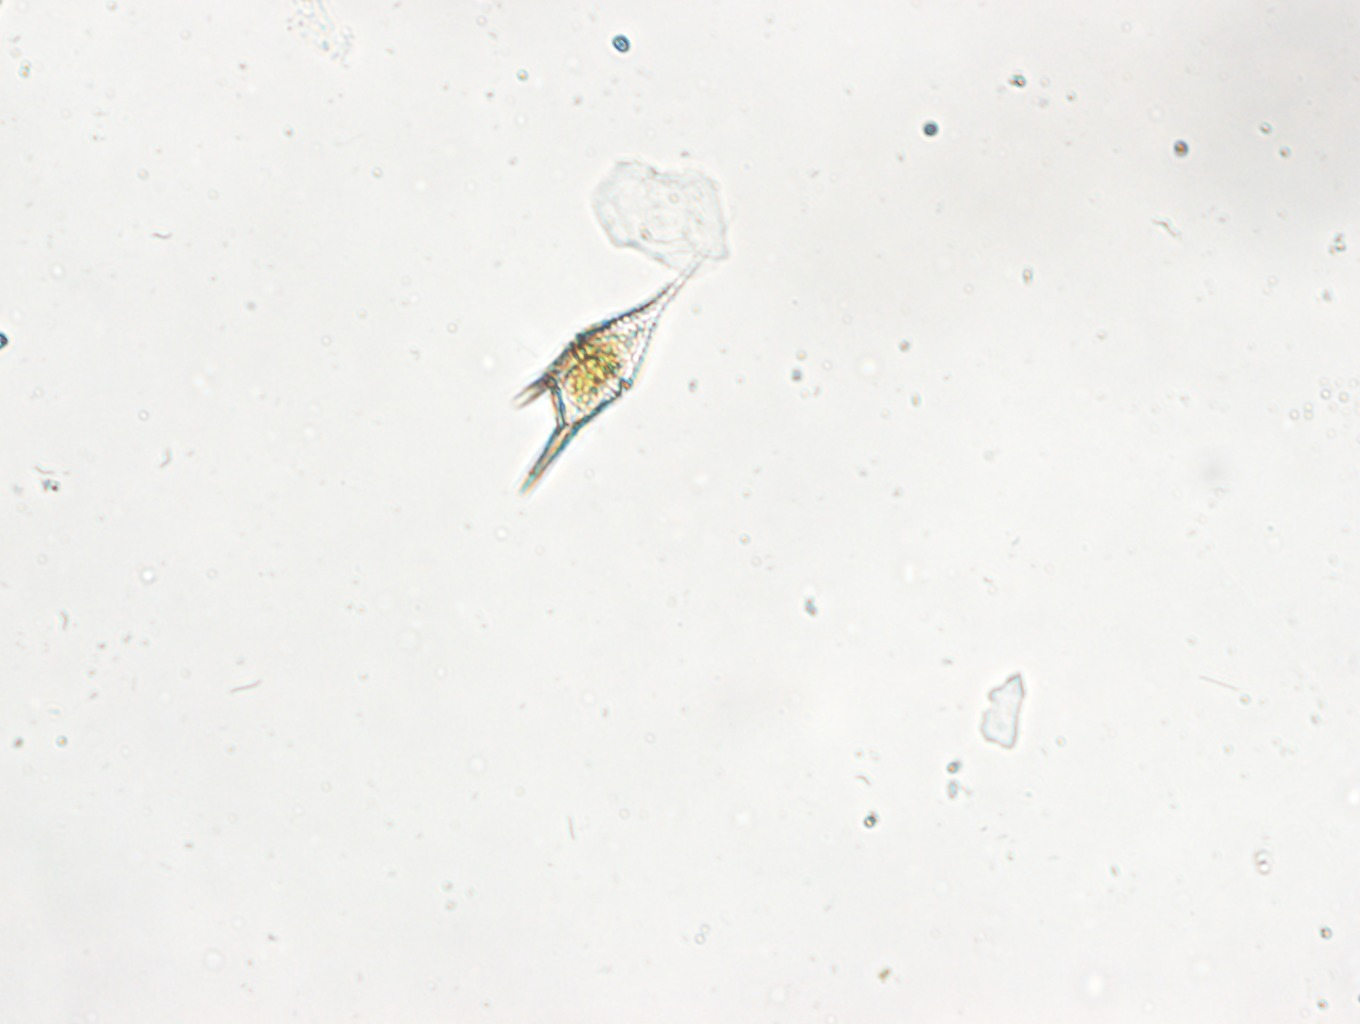ceratium furca: (490, 241, 708, 497)
